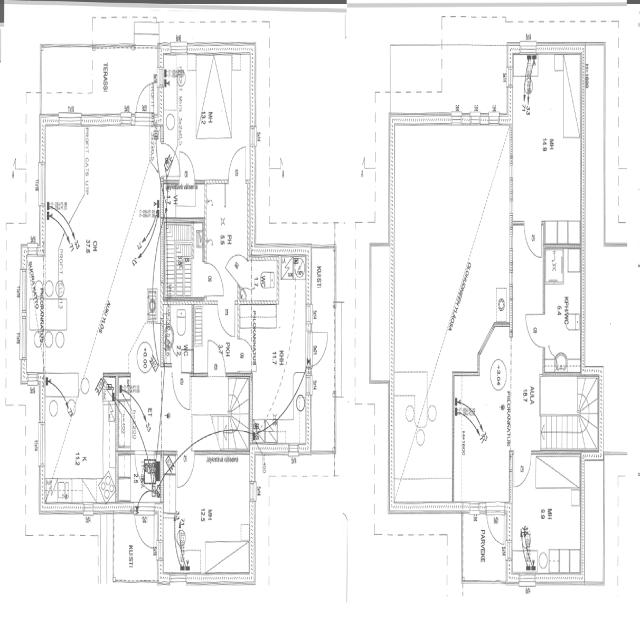door: (134, 486, 160, 551), (484, 501, 507, 548), (511, 448, 533, 492), (227, 142, 250, 184), (205, 337, 228, 379), (523, 309, 546, 350), (202, 259, 225, 300), (172, 370, 194, 412), (175, 445, 195, 491), (307, 328, 330, 368), (523, 219, 544, 262), (134, 80, 154, 122), (218, 299, 238, 339), (178, 147, 197, 186), (130, 421, 146, 456), (80, 479, 96, 511)
window: (450, 106, 485, 131), (36, 417, 48, 474), (37, 157, 48, 208), (514, 569, 538, 590), (57, 111, 83, 130), (467, 498, 484, 521), (168, 572, 189, 590), (20, 267, 27, 314), (19, 319, 26, 361), (170, 41, 188, 55), (287, 444, 299, 460)
zone: (390, 116, 511, 513), (44, 122, 162, 378), (510, 48, 584, 239), (162, 48, 252, 180), (162, 449, 252, 576), (251, 257, 310, 450), (40, 384, 118, 508), (509, 452, 584, 580), (542, 243, 583, 377), (162, 210, 205, 300), (204, 181, 251, 259), (461, 504, 505, 584), (307, 244, 336, 334), (117, 453, 162, 508), (163, 298, 194, 369), (133, 484, 160, 550), (164, 184, 205, 222)
